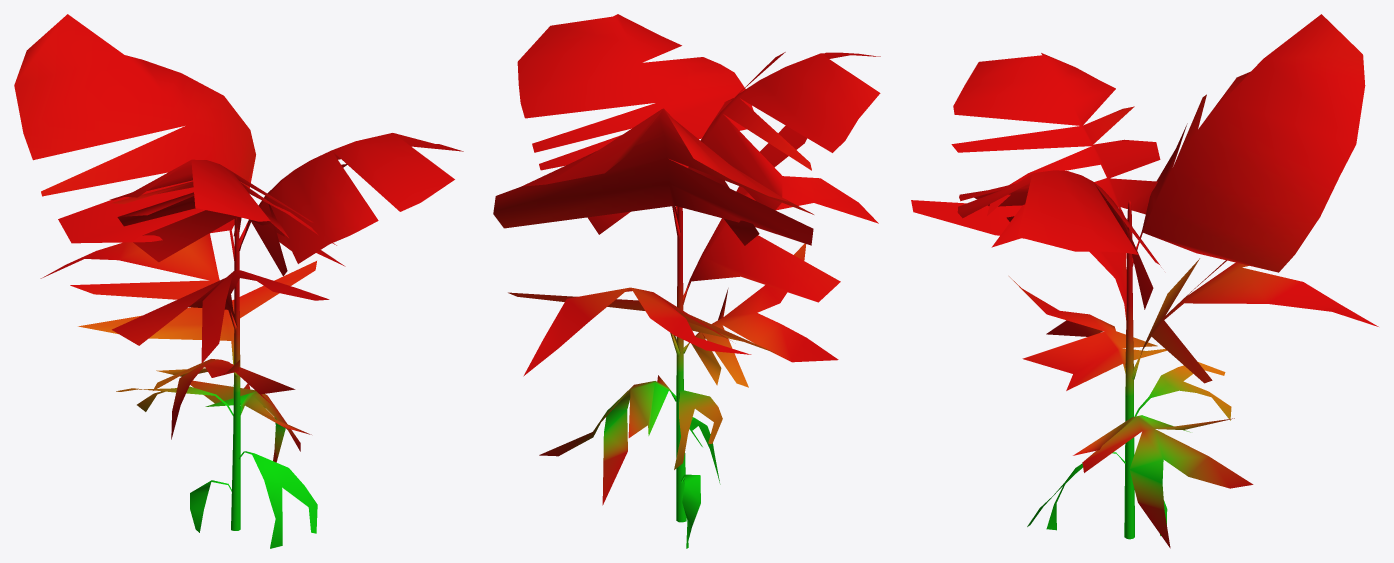
File: Cane Palm_LOD0_Var3_siBmK.fbx
3 renders of one model, left to right at view 1: azimuth 30°, elevation 25°; view 2: azimuth 150°, elevation 25°; view 3: azimuth 270°, elevation 25°, orthographic. The views are drawn at different scales.
Parts seen in each view (by area): view 1: _45d6_Var3_LOD0; view 2: _45d6_Var3_LOD0; view 3: _45d6_Var3_LOD0.
Part boxes in pixels (<box>): _45d6_Var3_LOD0: <box>14,14,463,548</box>; _45d6_Var3_LOD0: <box>493,14,880,548</box>; _45d6_Var3_LOD0: <box>911,14,1378,548</box>.
Size of the model in its own units: 18.89 by 25.57 by 21.97.
